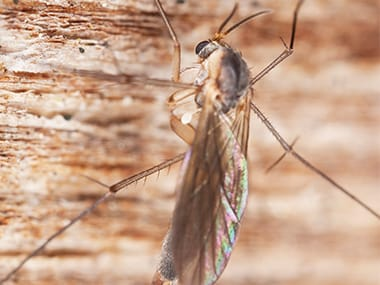phorid fly: (89, 10, 370, 284)
